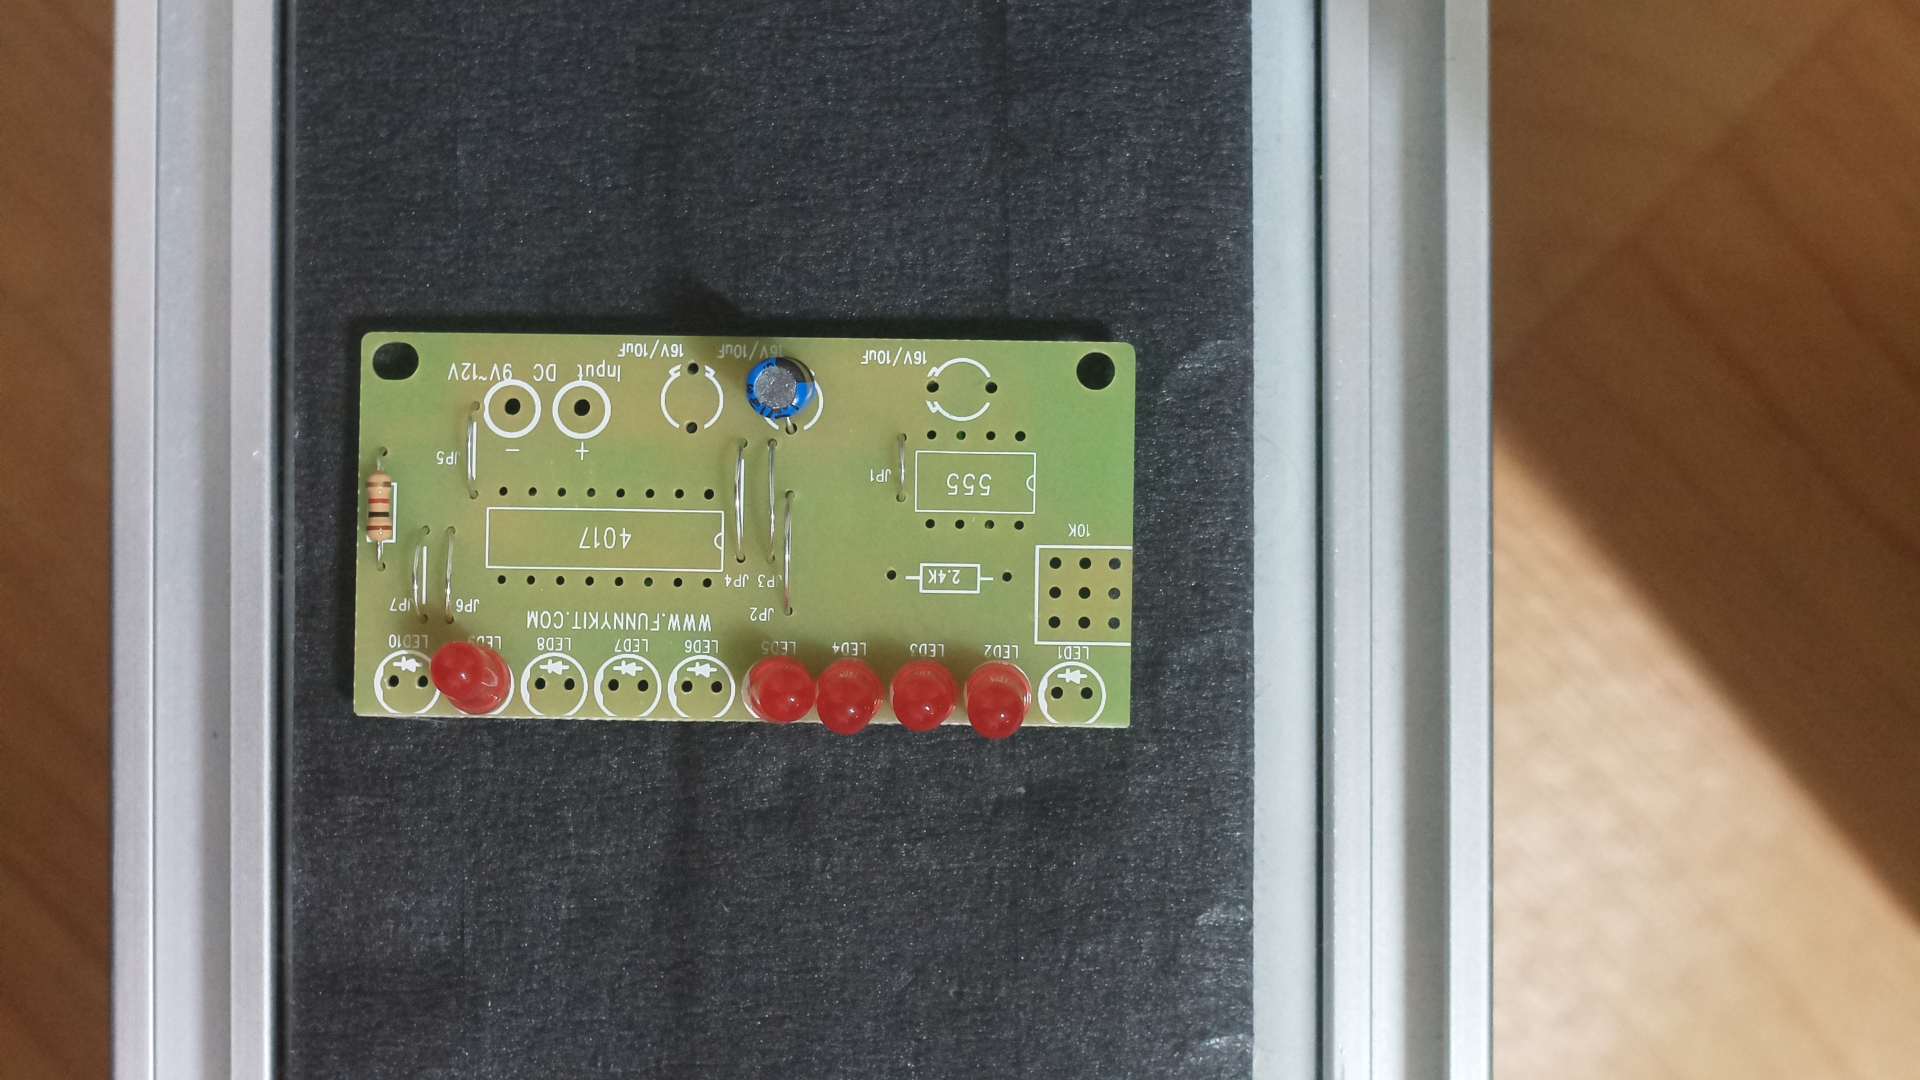B_Missing_part: (344, 317, 1142, 756)
